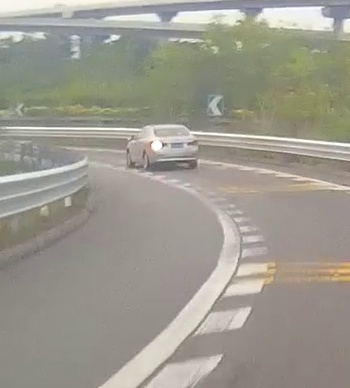L_light: (151, 142, 166, 149)
R_light: (187, 140, 198, 146)
T_light: (168, 127, 175, 129)
day-left: (148, 125, 199, 170)
